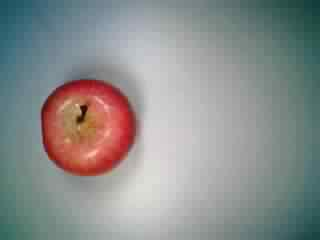apple: (34, 76, 139, 180)
